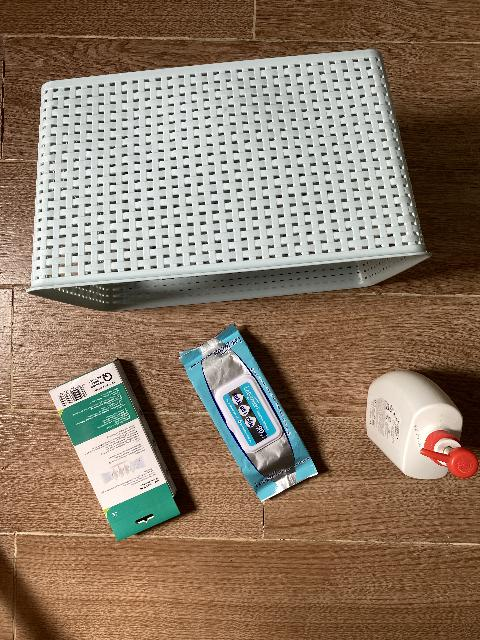4D_medical_face-mask: (49, 359, 181, 542)
Let-green_alcohol_wipes: (179, 324, 318, 503)
cart: (28, 48, 430, 313)
life-buoy: (366, 370, 479, 480)
